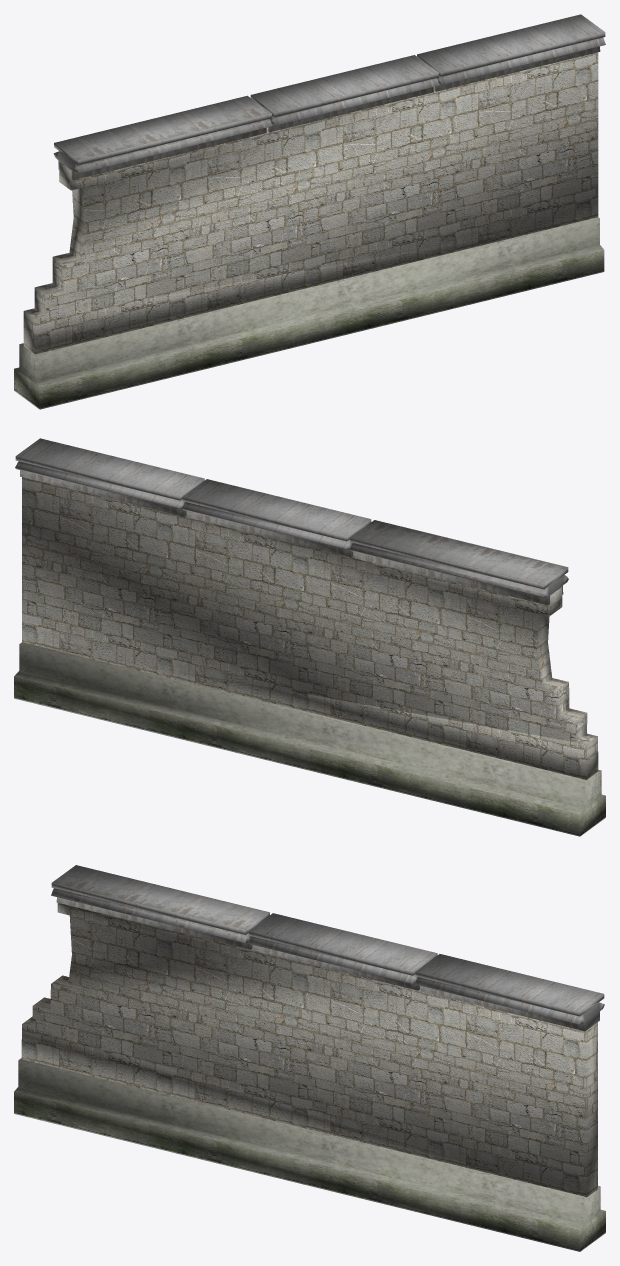
File: Ruin_Wall.glb
3 views of the same model, one above another, from view 1: azimuth 30°, elevation 25°; view 2: azimuth 150°, elevation 25°; view 3: azimuth 330°, elevation 25° (orthographic).
Parts seen in each view (by area): view 1: geom-RuinWallSegOne300; view 2: geom-RuinWallSegOne300; view 3: geom-RuinWallSegOne300.
Part boxes in pixels (x1=…): geom-RuinWallSegOne300: x1=14, y1=14, x2=605, y2=409; geom-RuinWallSegOne300: x1=14, y1=438, x2=605, y2=836; geom-RuinWallSegOne300: x1=14, y1=865, x2=605, y2=1251.
Bounding box in the file's own units: 6 × 2.44 × 0.4974.
Materials: 3 (3 with a texture image).
